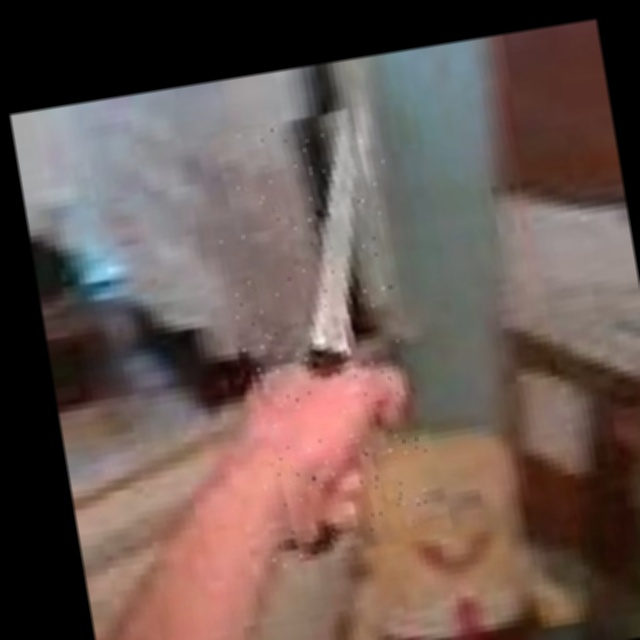Sharp-Object: (202, 106, 445, 569)
